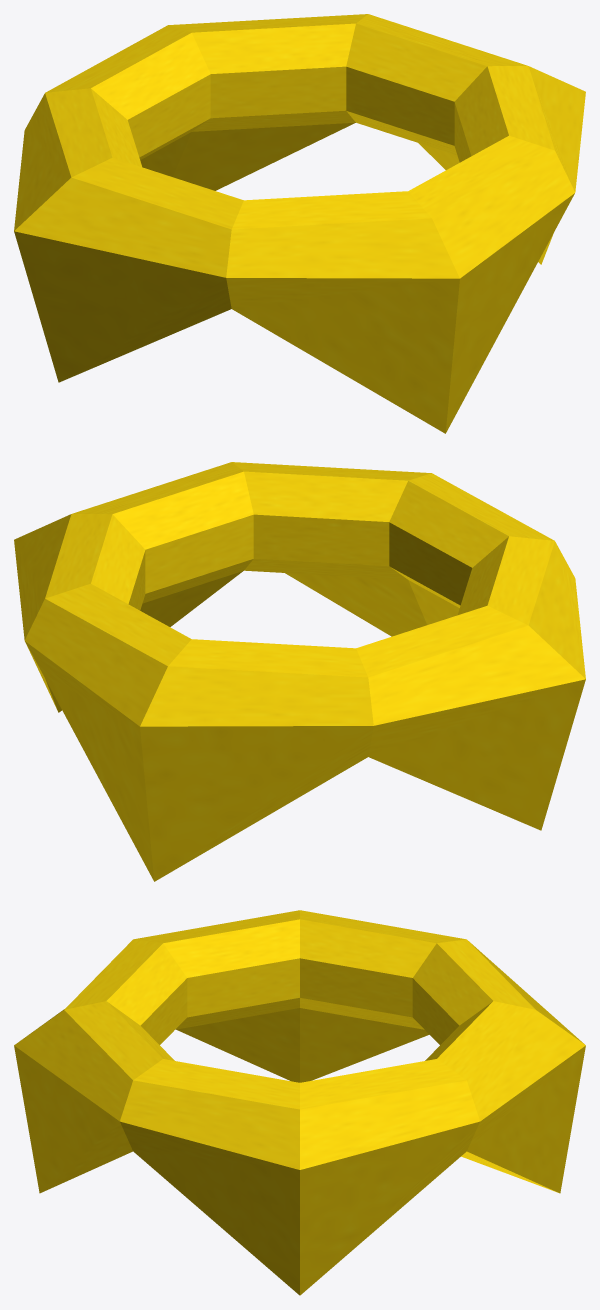
The model's file is rip_ray_generator.obj.
3 views of the same model, one above another, from view 1: azimuth 30°, elevation 25°; view 2: azimuth 150°, elevation 25°; view 3: azimuth 270°, elevation 25° (orthographic). The views are drawn at different scales.
Visible parts, largest first — view 1: Torus.001; view 2: Torus.001; view 3: Torus.001.
Part boxes in pixels (bbox=[...]): Torus.001: bbox=[14, 14, 585, 433]; Torus.001: bbox=[14, 462, 585, 881]; Torus.001: bbox=[14, 910, 585, 1295].
Size of the model in its own units: 2.94 by 1.06 by 2.85.
